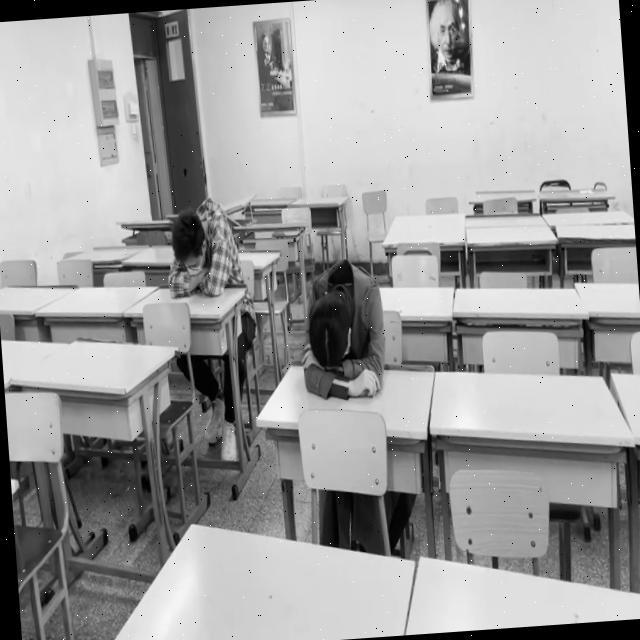sleep: (295, 261, 388, 401), (161, 198, 242, 299)
